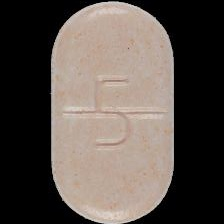64205-032: (0, 0, 224, 224)
